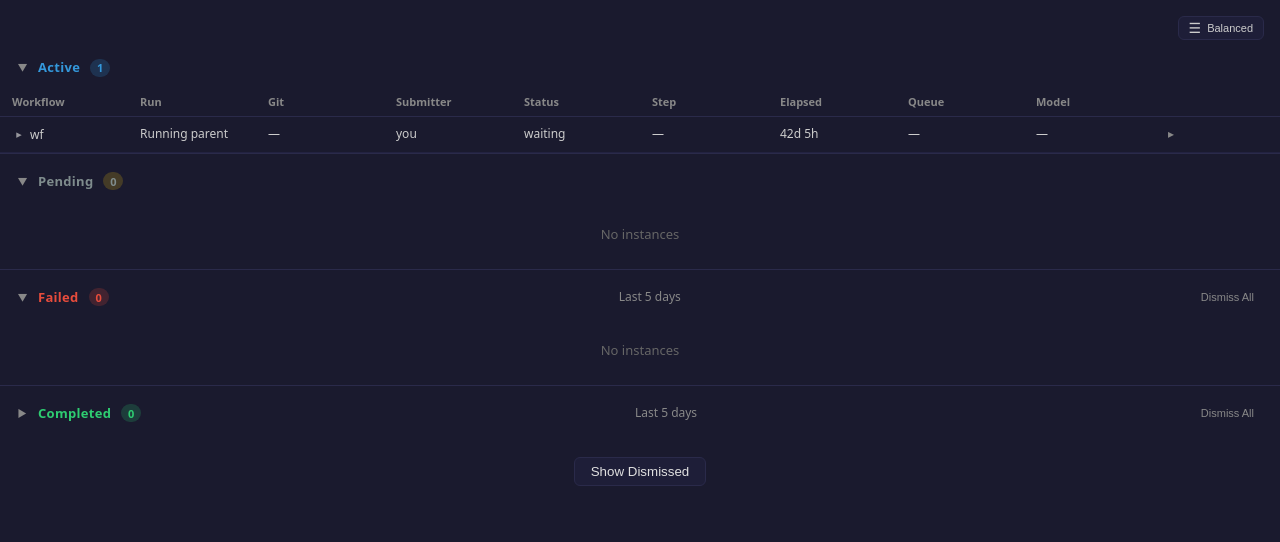
Test: QueueView — open hierarchy levels refresh (stale cache, P4-T10) › an open level refreshes on a group lifecycle event and stays expanded
Later steps or results of the test are not shown.
What coordinates should you click on to do the following:
click the button "▸" next to "wf"
I would click on:
 (19, 134)
Its box is [12,129,26,140].
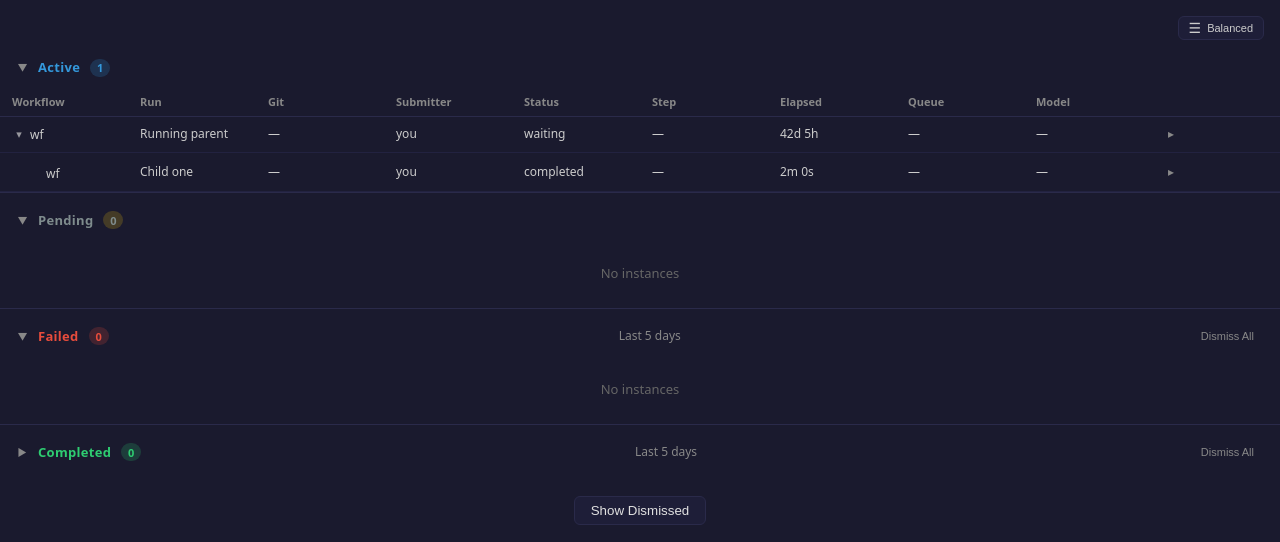
Check: the cell "completed" is shown, box [512,152,640,191]
Check: the button named "Hide child runs of Running parent" is shown, box [12,129,26,140]
